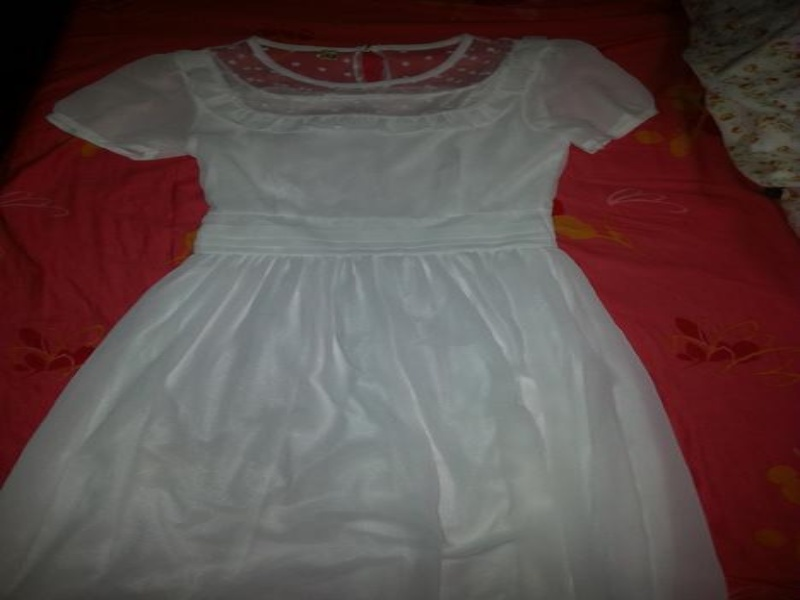short_sleeved_dress: (0, 26, 738, 599)
